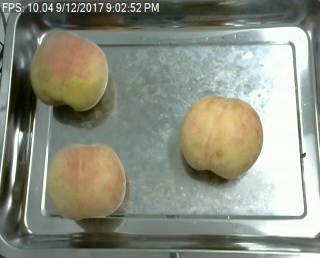Peach: (181, 96, 263, 180), (31, 28, 108, 112), (47, 141, 126, 219)
